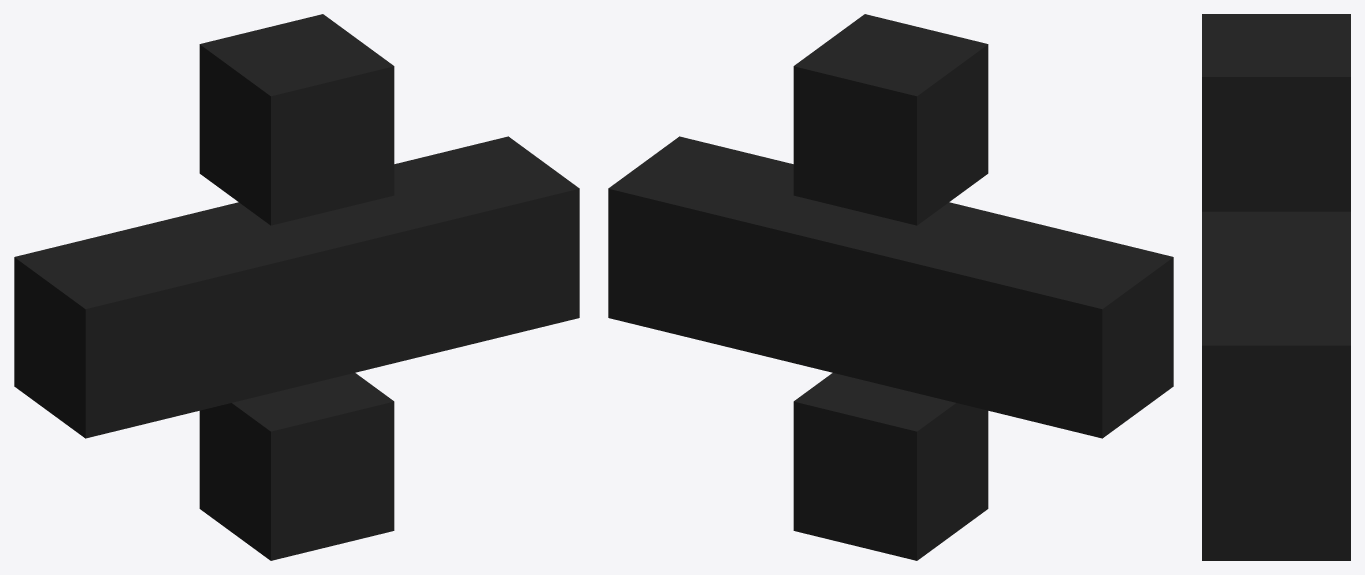
Rendered from divide.glb.
The picture shows the model from 3 angles, left to right: view 1: azimuth 30°, elevation 25°; view 2: azimuth 150°, elevation 25°; view 3: azimuth 270°, elevation 25°; orthographic projection. The views are drawn at different scales.
Parts seen in each view (by area): view 1: Cube.6439, Cube.6440, Cube.6441; view 2: Cube.6439, Cube.6440, Cube.6441; view 3: Cube.6439, Cube.6440, Cube.6441.
Boxes of the visible parts, left/top/right/bottom form: Cube.6439: left=14, top=136, right=579, bottom=438; Cube.6440: left=199, top=14, right=394, bottom=225; Cube.6441: left=199, top=373, right=394, bottom=560; Cube.6439: left=608, top=136, right=1173, bottom=438; Cube.6440: left=793, top=14, right=988, bottom=225; Cube.6441: left=793, top=373, right=988, bottom=560; Cube.6439: left=1202, top=211, right=1350, bottom=480; Cube.6440: left=1202, top=14, right=1350, bottom=211; Cube.6441: left=1202, top=480, right=1350, bottom=560.
Bounding box in the file's own units: 2.16 × 1.94 × 0.54.
1 material, 1 textured.
